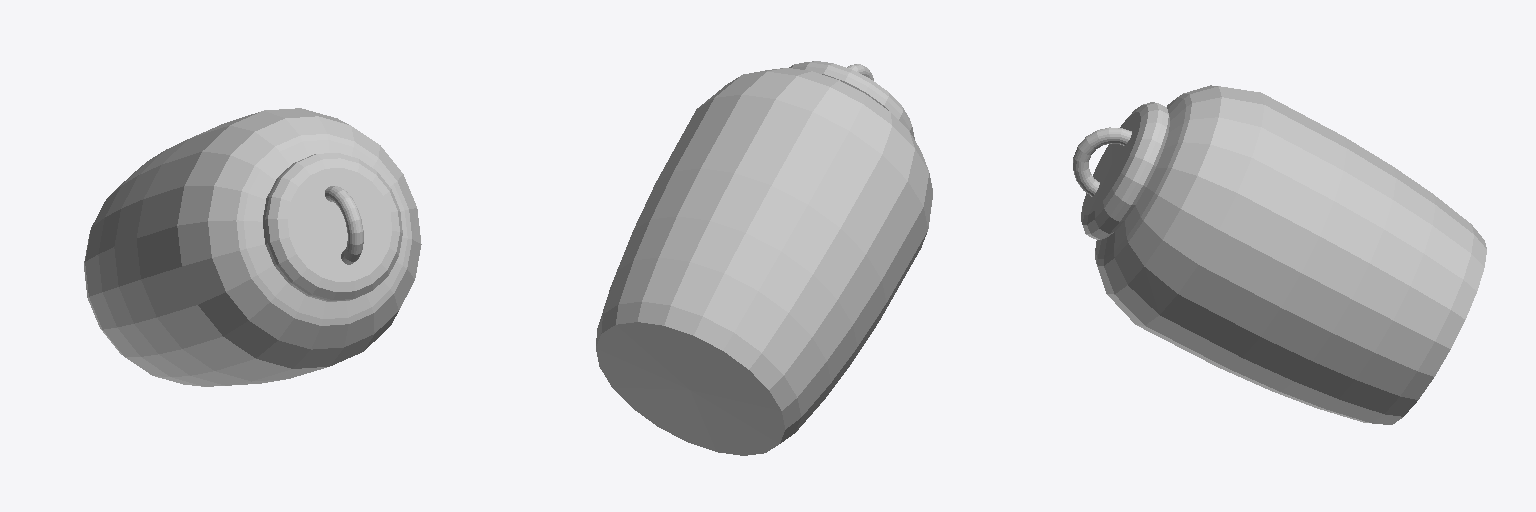
Rendered from Urn_shooting_3.obj.
The picture shows the model from 3 angles: view 1: azimuth 30°, elevation 25°; view 2: azimuth 150°, elevation 25°; view 3: azimuth 270°, elevation 25°; orthographic projection.
Parts seen in each view (by area): view 1: Undertaker_4:Undertaker_4:Urn; view 2: Undertaker_4:Undertaker_4:Urn; view 3: Undertaker_4:Undertaker_4:Urn.
Part boxes in pixels (x1,y1,x2,y2): Undertaker_4:Undertaker_4:Urn: (84,108,421,386); Undertaker_4:Undertaker_4:Urn: (596,61,932,455); Undertaker_4:Undertaker_4:Urn: (1073,85,1486,424).
Size of the model in its own units: 0.4718 by 0.6233 by 0.7371.